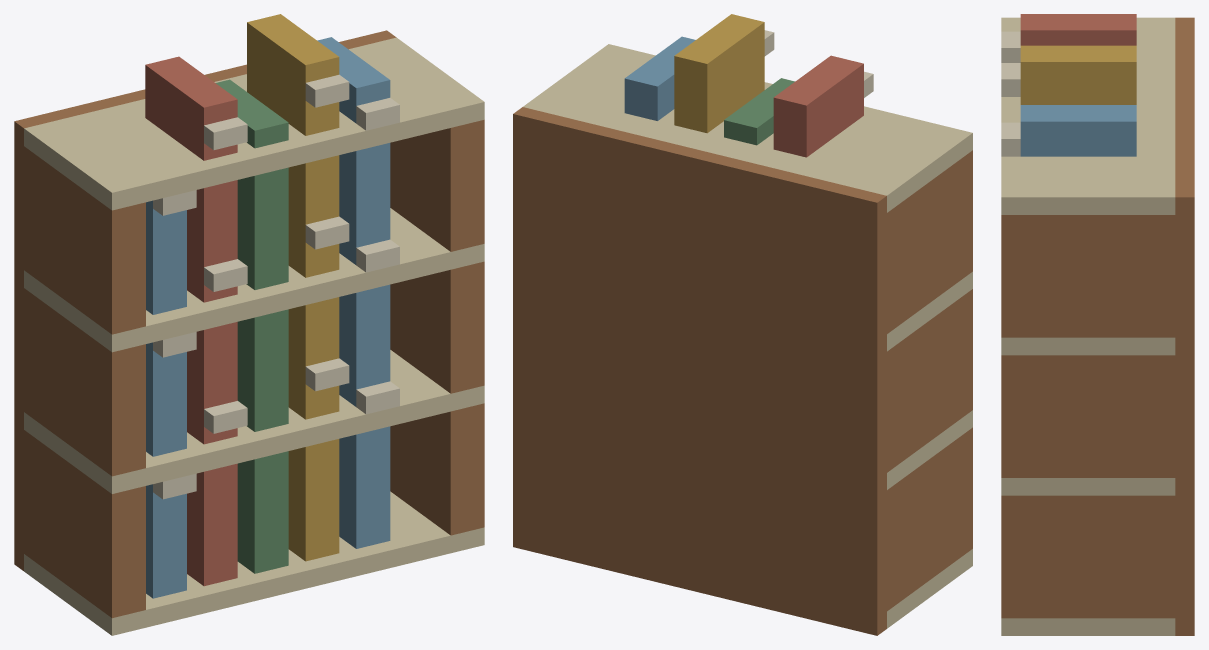
3 views of the same model, side by side, from view 1: azimuth 30°, elevation 25°; view 2: azimuth 150°, elevation 25°; view 3: azimuth 270°, elevation 25° (orthographic). The views are drawn at different scales.
Parts seen in each view (by area): view 1: Dataset library; view 2: Dataset library; view 3: Dataset library.
Part boxes in pixels (x1=…): Dataset library: x1=14, y1=14, x2=484, y2=635; Dataset library: x1=513, y1=14, x2=972, y2=635; Dataset library: x1=1001, y1=14, x2=1194, y2=635.
Size of the model in its own units: 1.76 by 2.32 by 0.8.
